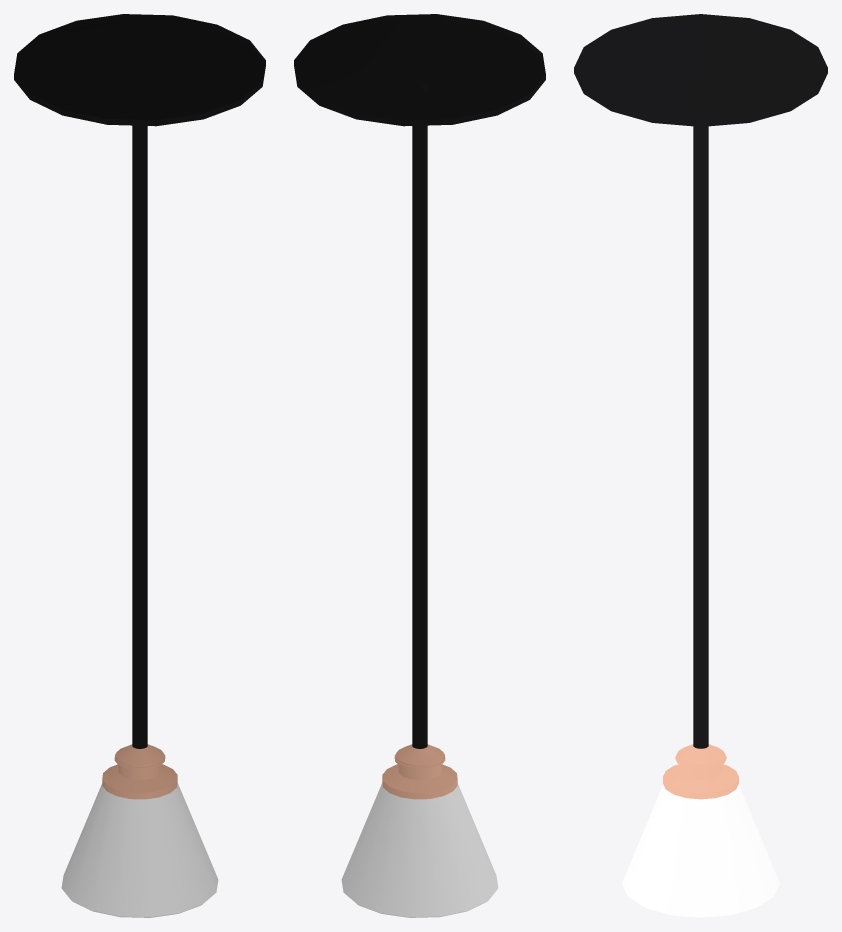
File: FP420:LightFixture1_9266416b.obj
The picture shows the model from 3 angles, left to right: view 1: azimuth 30°, elevation 25°; view 2: azimuth 150°, elevation 25°; view 3: azimuth 270°, elevation 25°; orthographic projection.
Visible parts, largest first — view 1: FP420:LightFixture1_9266416b; view 2: FP420:LightFixture1_9266416b; view 3: FP420:LightFixture1_9266416b.
Boxes of the visible parts, x1,y1,x2,y2 form: FP420:LightFixture1_9266416b: (14, 14, 265, 917); FP420:LightFixture1_9266416b: (294, 14, 545, 917); FP420:LightFixture1_9266416b: (574, 14, 827, 917).
Size of the model in its own units: 0.156 by 0.5544 by 0.156.
